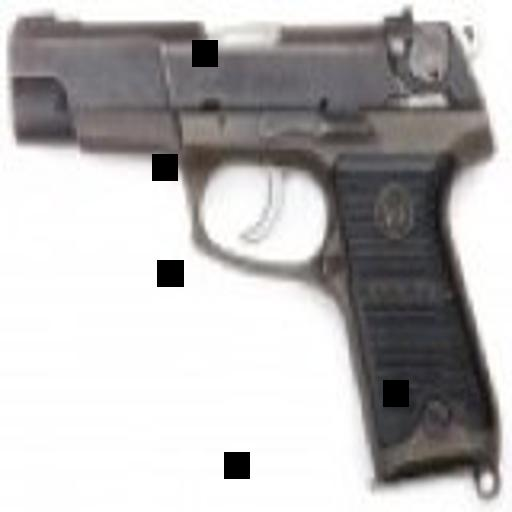Handgun: (8, 7, 491, 481)
